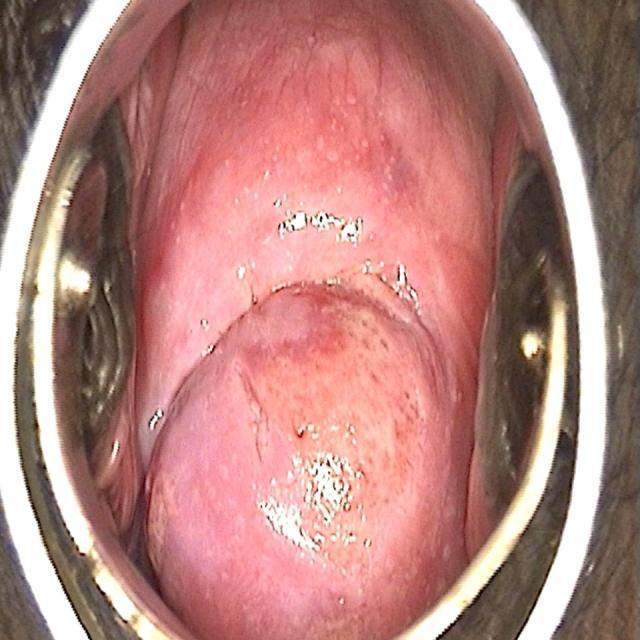cervical_lesion: (129, 133, 449, 626)
